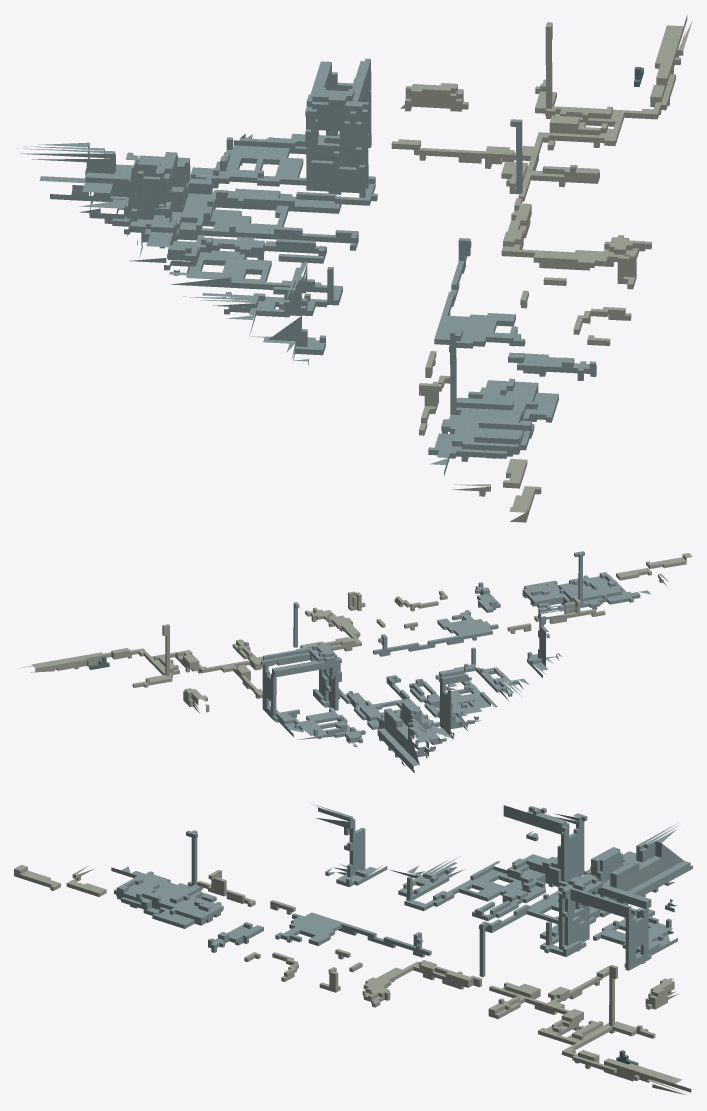
3 views of the same model, one above another, from view 1: azimuth 30°, elevation 25°; view 2: azimuth 150°, elevation 25°; view 3: azimuth 270°, elevation 25° (orthographic). The views are drawn at different scales.
Parts seen in each view (by area): view 1: measured-industrial; view 2: measured-industrial; view 3: measured-industrial.
Boxes of the visible parts, x1,y1,x2,y2 form: measured-industrial: (17, 15, 692, 522); measured-industrial: (17, 551, 692, 772); measured-industrial: (14, 803, 692, 1094).
Size of the model in its own units: 210 by 28.91 by 249.
